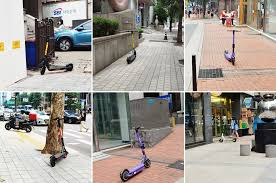kick_handler: (52, 117, 66, 124), (227, 29, 240, 34), (126, 30, 138, 33)
kick_neck: (58, 125, 66, 150), (231, 35, 237, 57), (131, 34, 137, 53), (43, 42, 48, 62)
kick_wheel: (120, 169, 130, 180), (39, 65, 46, 75), (50, 155, 55, 167), (66, 63, 73, 71), (145, 160, 152, 167), (232, 57, 236, 63)
